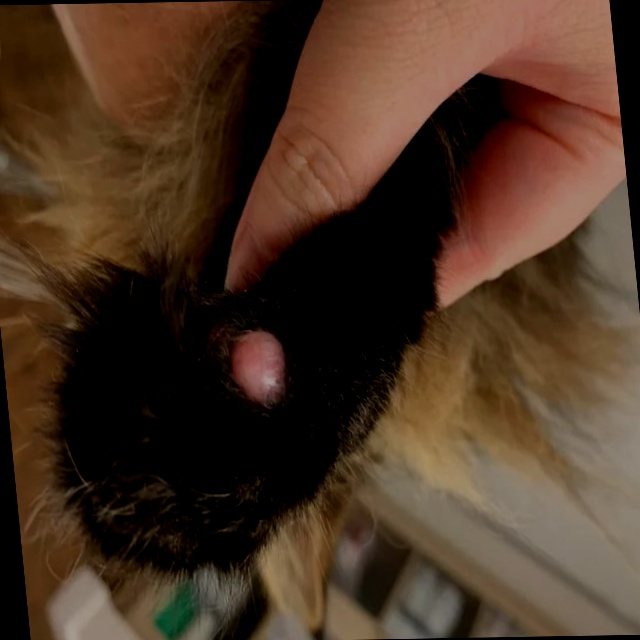lump_and_bump: (226, 326, 289, 413)
